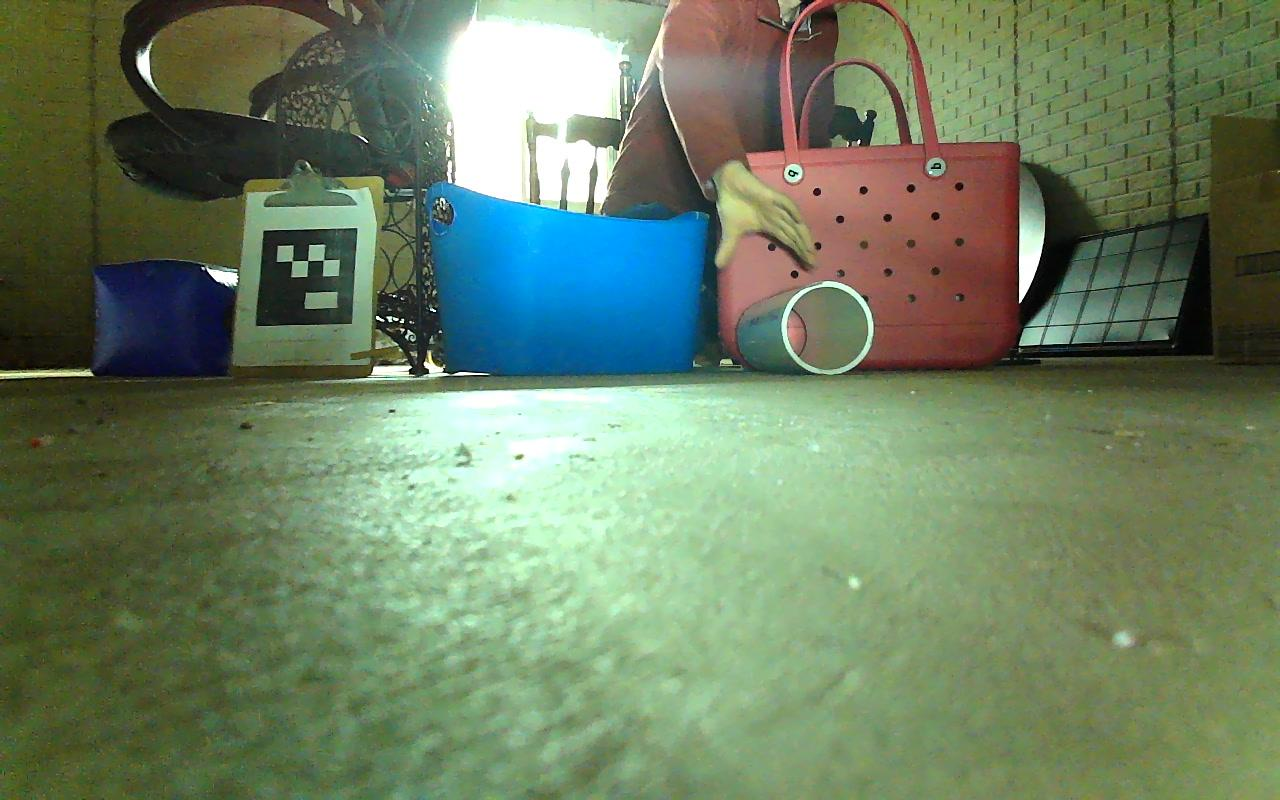coral: (737, 281, 874, 376)
